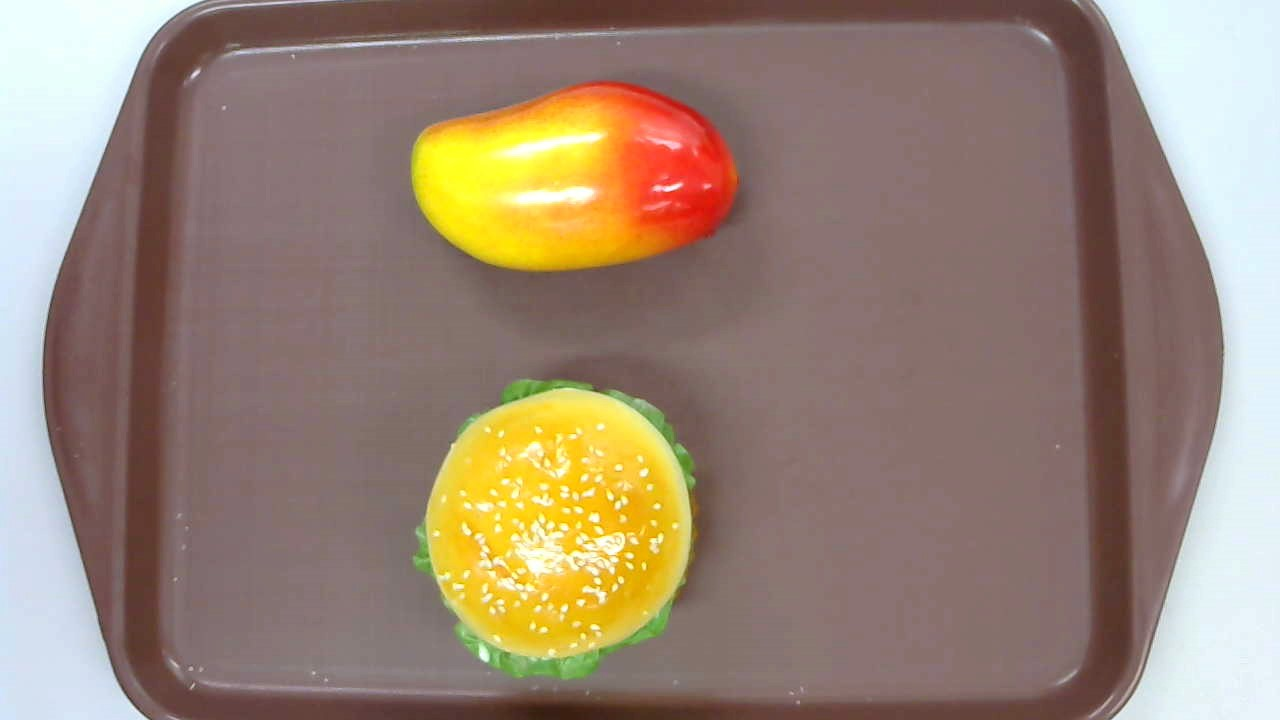hamburger: (413, 379, 699, 679)
red mango: (410, 81, 740, 272)
